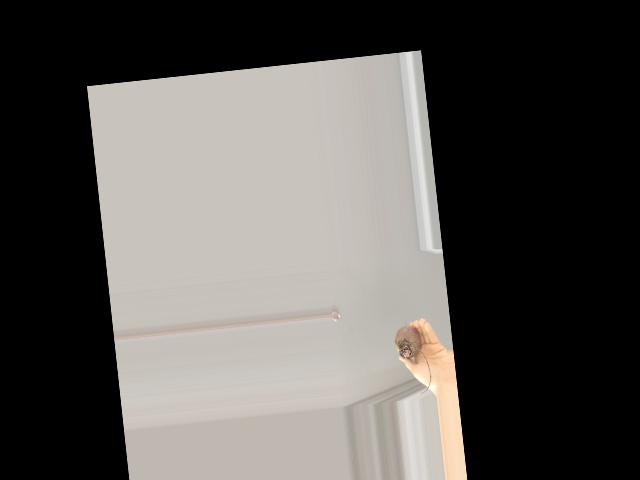beet: (392, 314, 433, 395)
